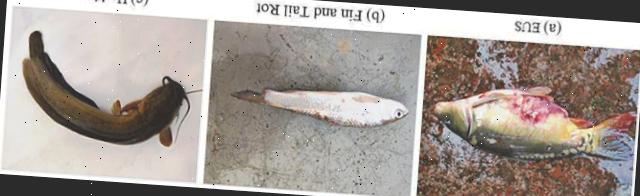Epizootic Ulcerative Syndrome -EUS-: (426, 86, 635, 161), (430, 86, 635, 162)
